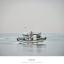fishing boat: (16, 30, 47, 47)
